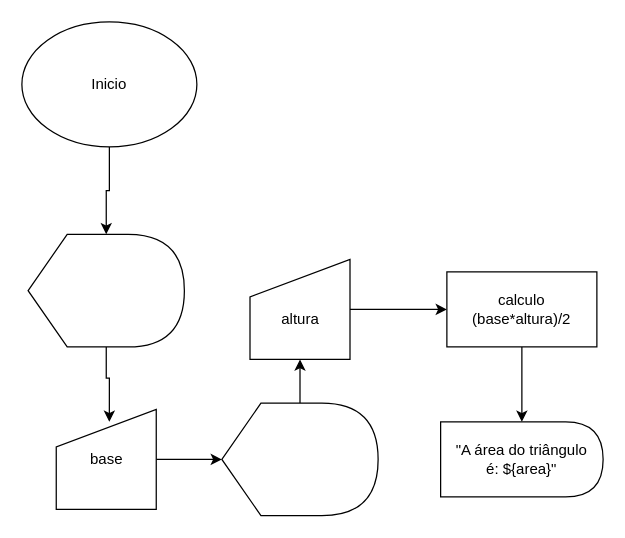
This 625x538 diagram has some shape labels left out. The shapes that lost their labels are listed below. From the top down, each one's centre as x and y in pixels, then its label:
the point at 105,290: "Informe a base do triângulo:"
the point at 299,459: "Informe a altura do triângulo:"
